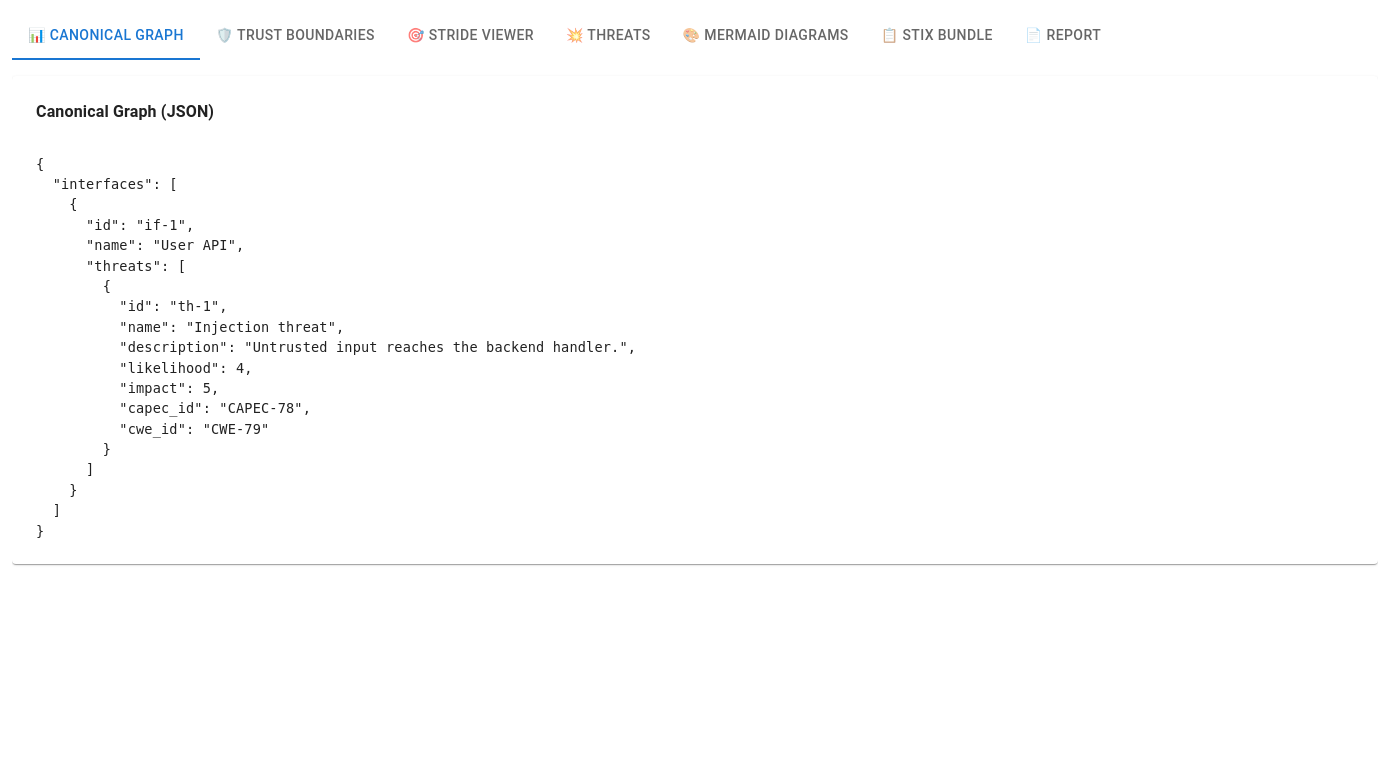
Scenario: ArtifactsViewer › renders threat rows inside the Artifacts threat subview
The width and height of the screenshot is (1378, 780).
Click the tab "💥 Threats" at point(608, 36), box [550,12,667,60]
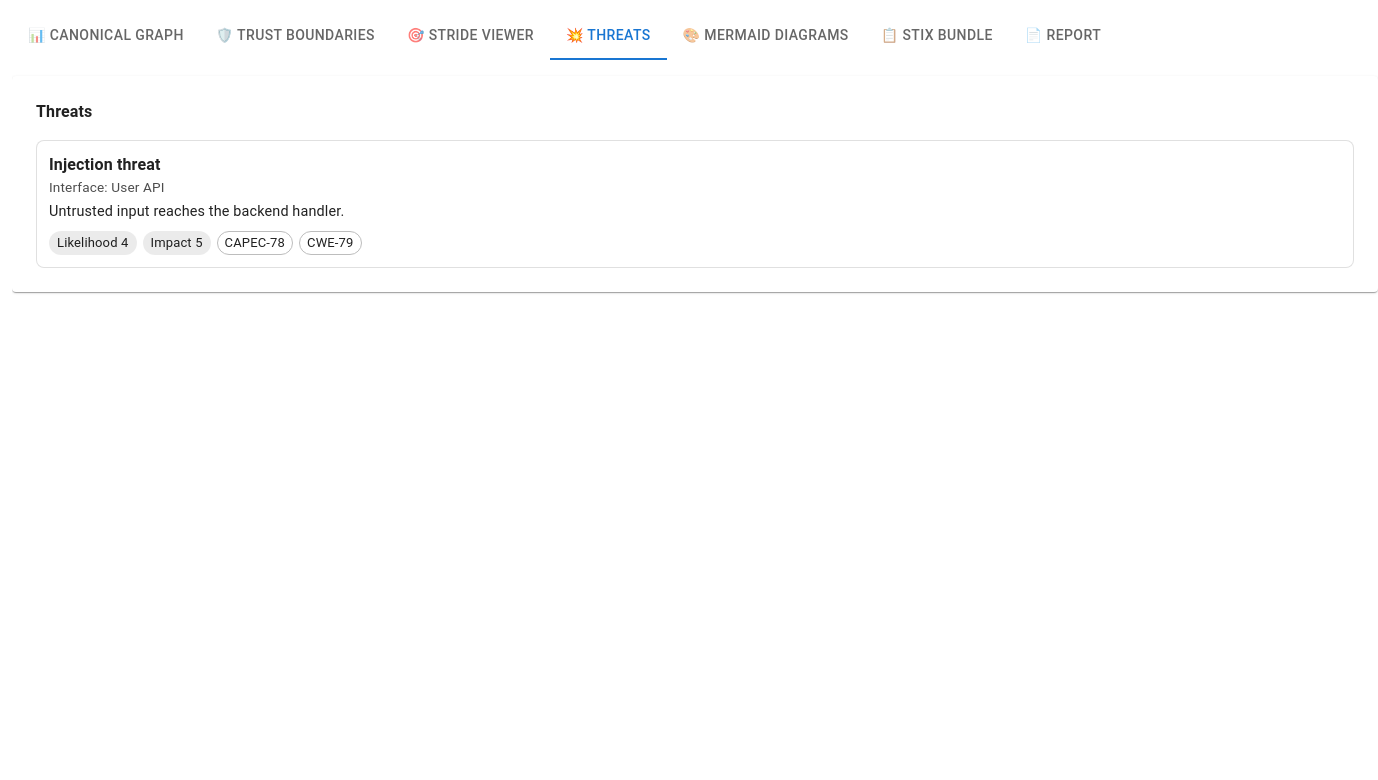
Expected: the text "Interface: User API" is shown, [49,179,165,195]
Expected: the text "Likelihood 4" is shown, [57,235,128,250]
Expected: the text "Impact 5" is shown, [150,235,203,250]
